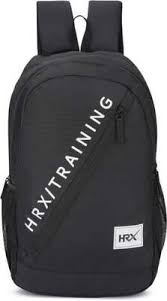backpack: (0, 0, 166, 297)
